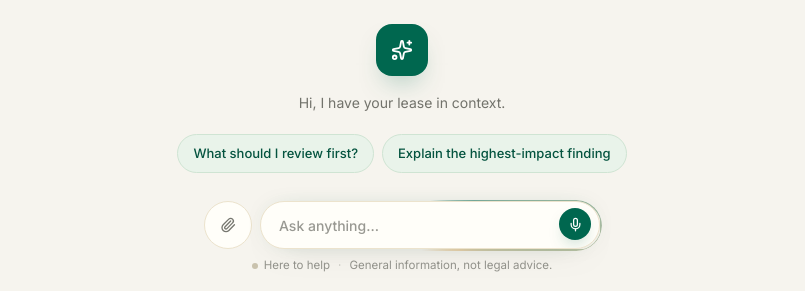
Scenario: AssistantConsole › reports whether the answer came from the agent or the local guide
The image size is (805, 291).
Expected: the element with class "is-unknown" is shown, [252,257,330,274]
Click the button "What should I review first?". click: (276, 153)
box: [178,134,374,173]
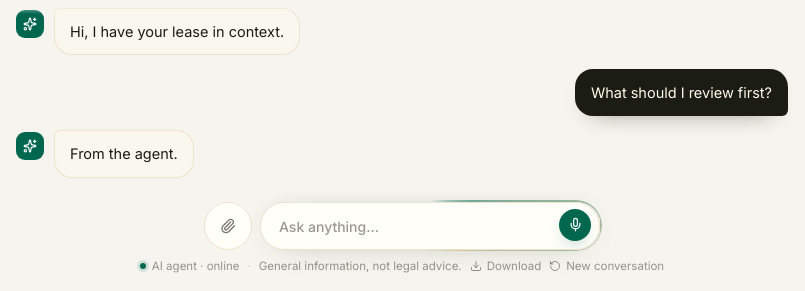
Expected: the text "From the agent." is shown, [70,142,178,166]
Expected: the text "AI agent · online" is shown, [140,258,240,275]
